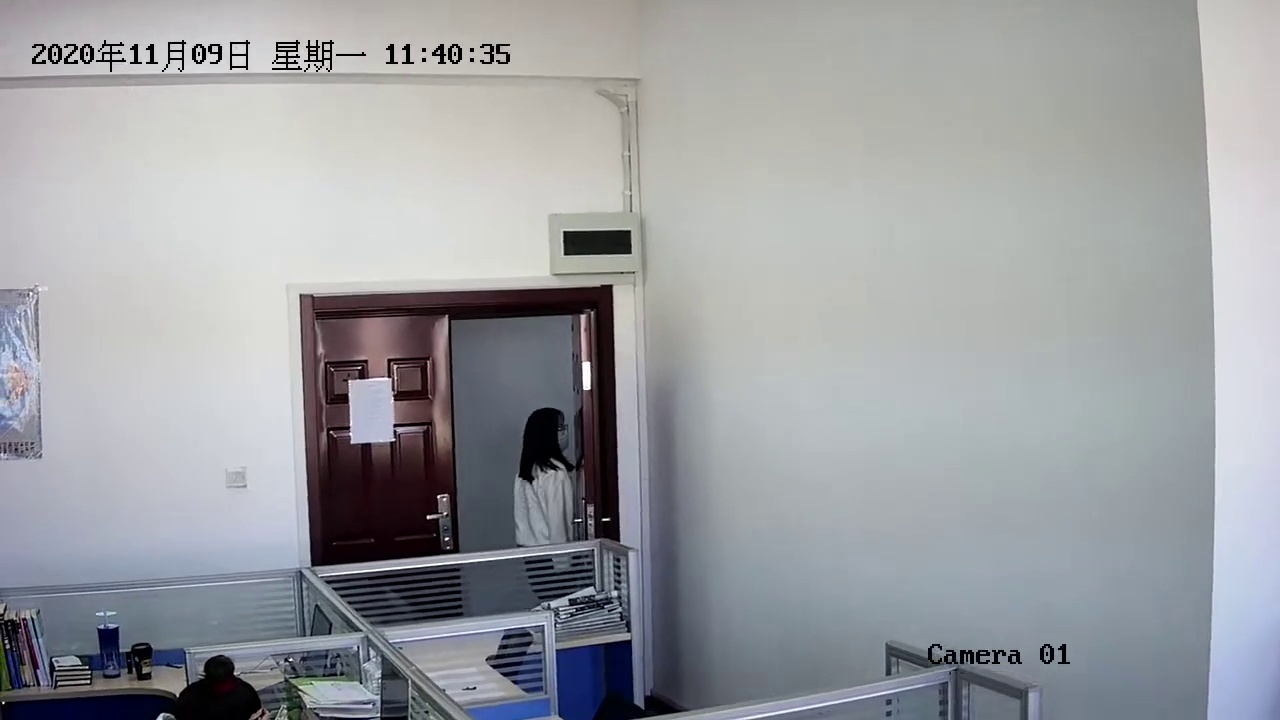mask: (524, 399, 573, 461)
